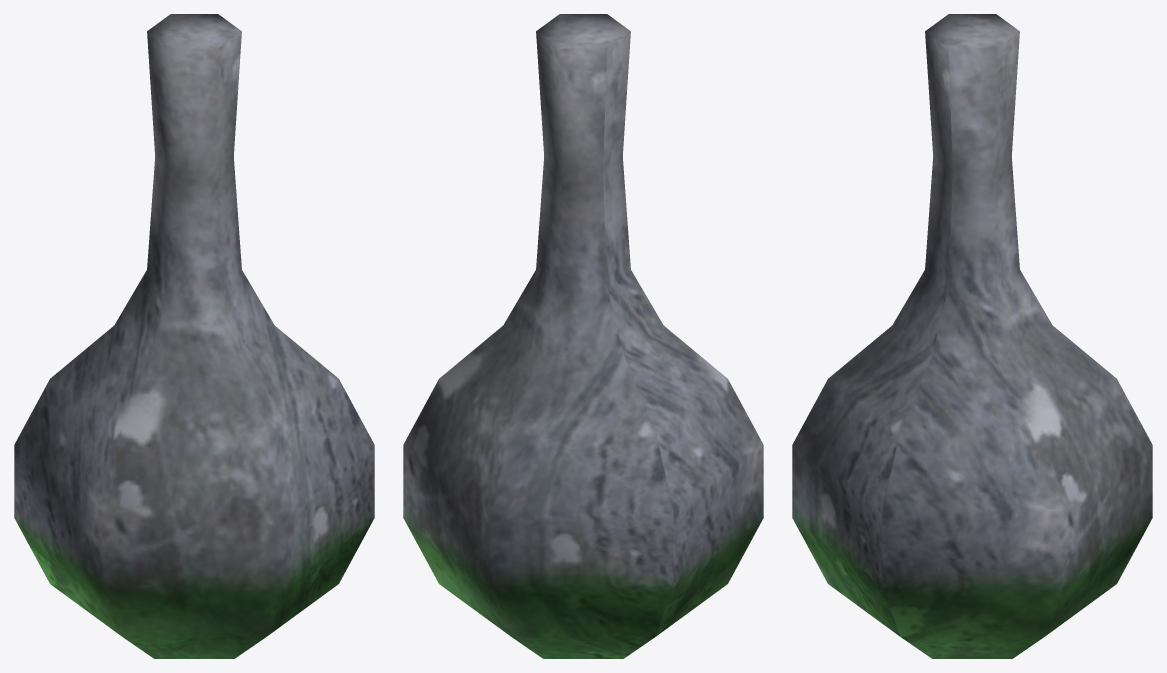
File: acid_machine_bottle01.dae
3 views of the same model, side by side, from view 1: azimuth 30°, elevation 25°; view 2: azimuth 150°, elevation 25°; view 3: azimuth 270°, elevation 25° (orthographic).
Parts seen in each view (by area): view 1: acid_machine_bottle01; view 2: acid_machine_bottle01; view 3: acid_machine_bottle01.
Part boxes in pixels (x1=…): acid_machine_bottle01: x1=14, y1=14, x2=374, y2=658; acid_machine_bottle01: x1=403, y1=14, x2=763, y2=658; acid_machine_bottle01: x1=792, y1=14, x2=1152, y2=658.
Bounding box in the file's own units: 0.2038 × 0.2353 × 0.4413.
1 material, 1 textured.
